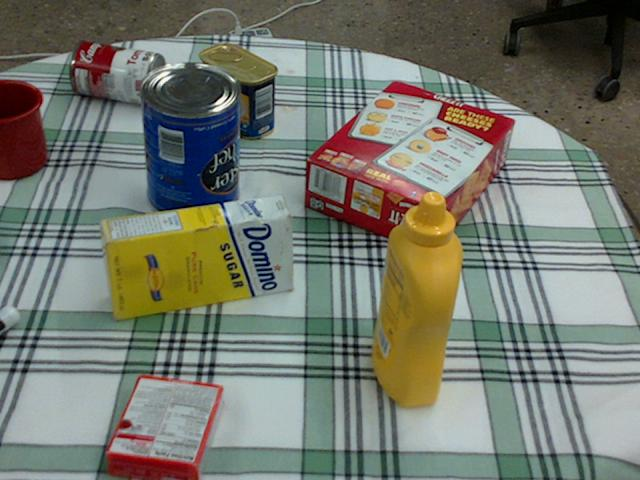cracker_box: (305, 80, 514, 255)
gelatin_box: (105, 375, 221, 479)
large_marker: (0, 304, 19, 333)
master_chef_can: (137, 62, 238, 224)
mug: (0, 78, 48, 177)
mustard_bottle: (372, 191, 462, 404)
potted_meat_can: (198, 43, 277, 138)
sugar_box: (98, 195, 292, 319)
tomato_soup_can: (70, 40, 165, 104)
